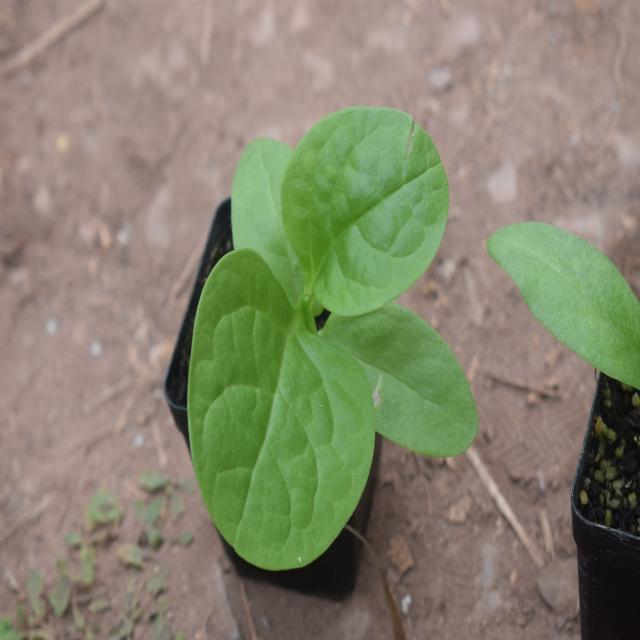Ceylon spinach: (195, 95, 483, 605)
